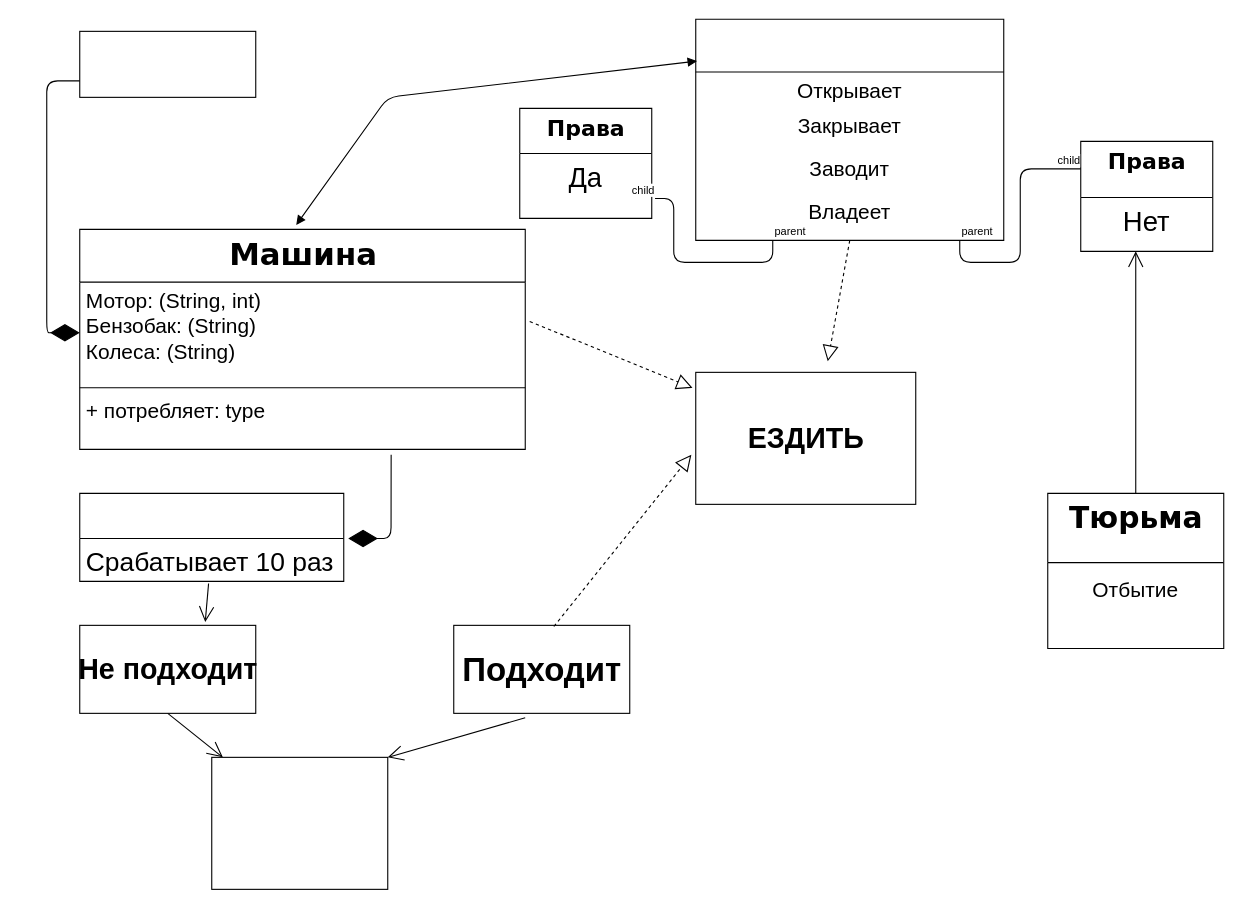
Image size: 1243x909. Some labels were removed from this diagram. The box of each missing label's shape, as (x1, y1, x2, y2) in pixels:
Ключ: (211, 756, 388, 889)
Сигнализация: (79, 492, 344, 581)
Топливо: (79, 30, 256, 97)
Человек: (695, 18, 1004, 240)
